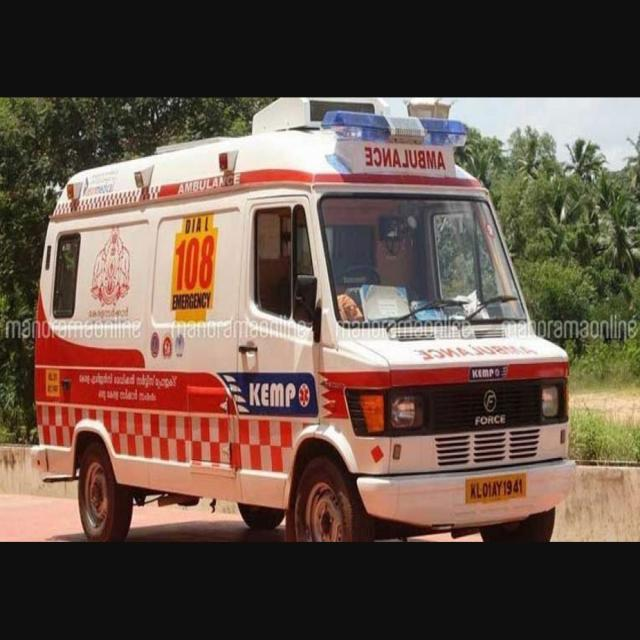ambulance: (38, 97, 568, 541)
